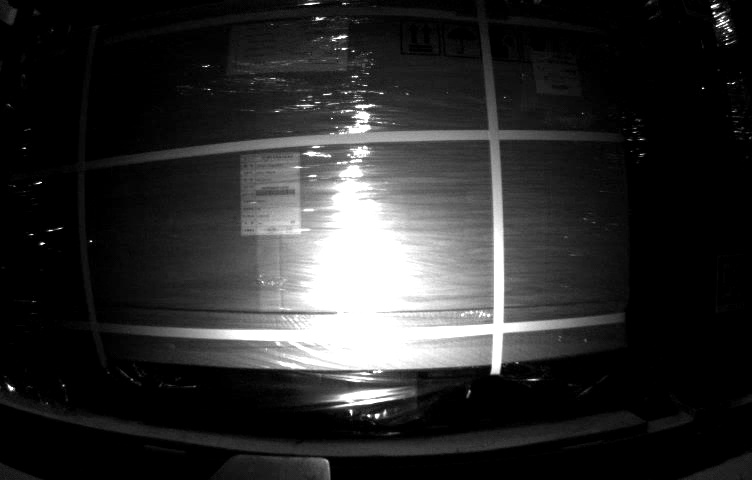True Barcode: (532, 51, 582, 98)
